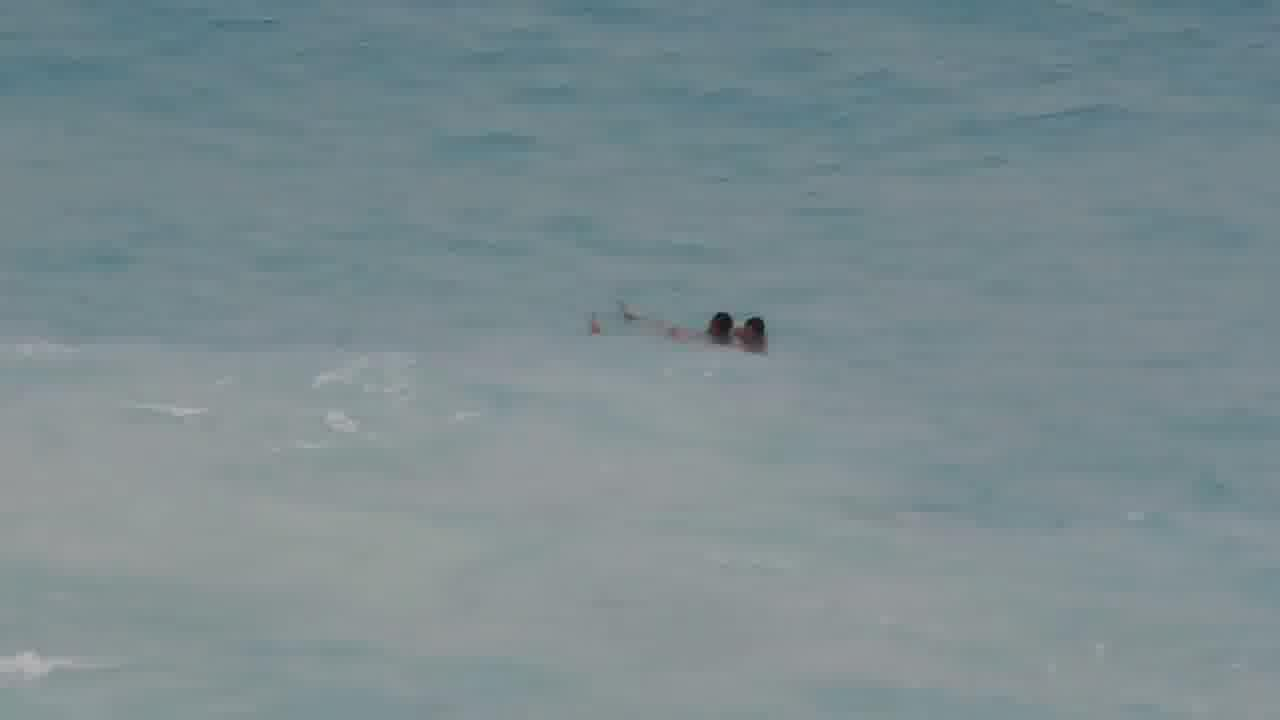human: (732, 295, 770, 357), (706, 302, 727, 346)
